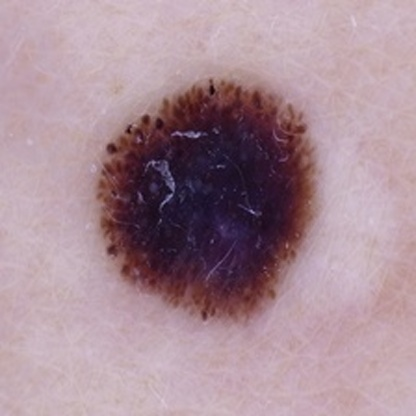malignant: (109, 104, 294, 292)
